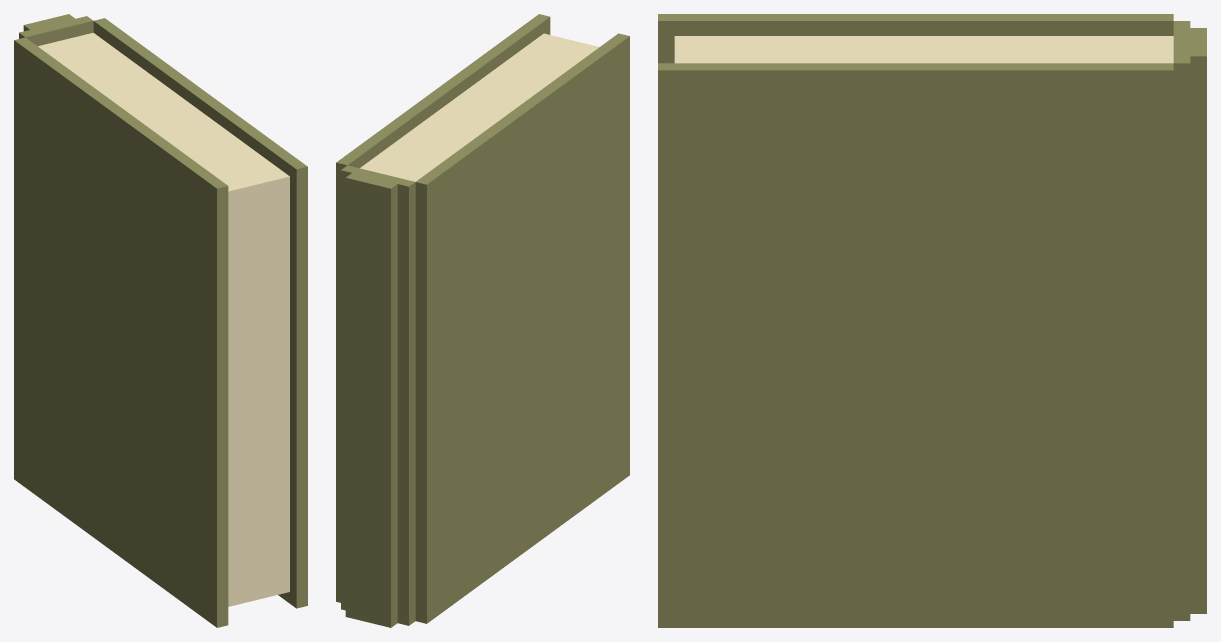
File: Book3.obj
3 renders of one model, left to right at view 1: azimuth 30°, elevation 25°; view 2: azimuth 150°, elevation 25°; view 3: azimuth 270°, elevation 25°, orthographic. The views are drawn at different scales.
Parts seen in each view (by area): view 1: Book3; view 2: Book3; view 3: Book3.
Part boxes in pixels (x1,y1,x2,y2): Book3: (14, 14, 307, 627); Book3: (336, 14, 629, 627); Book3: (658, 14, 1206, 627).
Size of the model in its own units: 8 by 37 by 33.
1 material, 1 textured.
